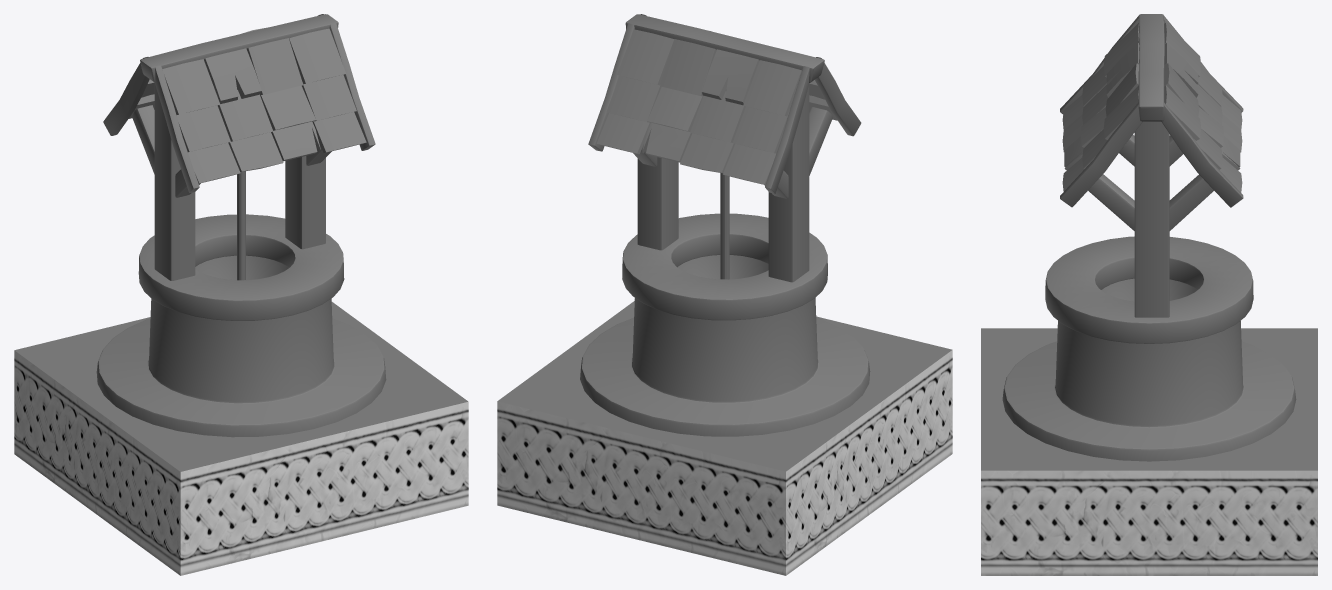
File: med_tile_ns_boundary_well_hd.fbx
3 views of the same model, side by side, from view 1: azimuth 30°, elevation 25°; view 2: azimuth 150°, elevation 25°; view 3: azimuth 270°, elevation 25° (orthographic).
Parts seen in each view (by area): view 1: med_tile_ns_well, med_tile_ns_boundary_well_hd; view 2: med_tile_ns_well, med_tile_ns_boundary_well_hd; view 3: med_tile_ns_well, med_tile_ns_boundary_well_hd.
Boxes of the visible parts, left/top/right/bottom form: med_tile_ns_well: left=96, top=14, right=386, bottom=437; med_tile_ns_boundary_well_hd: left=14, top=302, right=468, bottom=575; med_tile_ns_well: left=580, top=14, right=870, bottom=436; med_tile_ns_boundary_well_hd: left=497, top=301, right=952, bottom=575; med_tile_ns_well: left=1002, top=14, right=1296, bottom=461; med_tile_ns_boundary_well_hd: left=981, top=328, right=1317, bottom=575.
Size of the model in its own units: 100 by 146 by 100.
3 materials, 1 textured.
